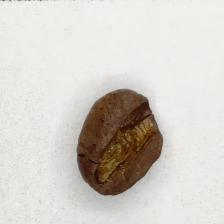NG: (98, 97, 160, 179)
